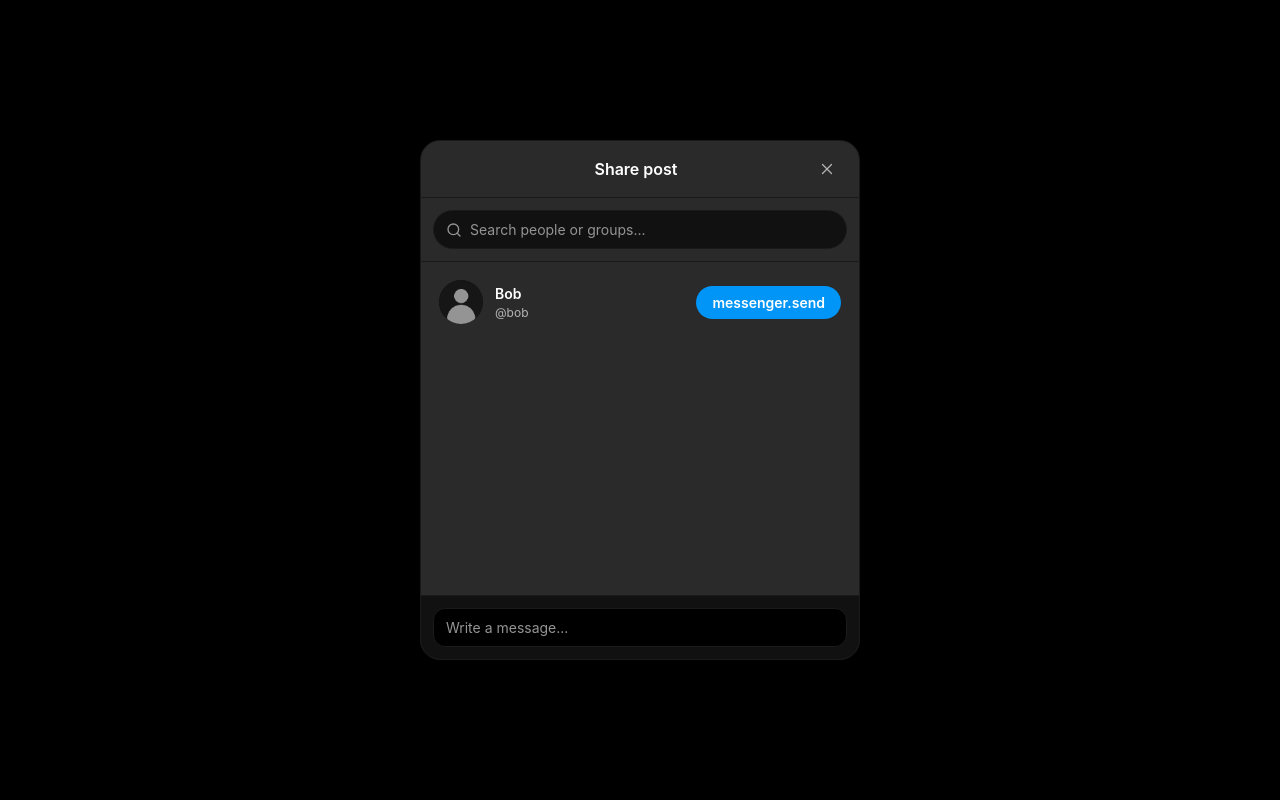
it: SharePostModal › reads state.login.userInfo, renders conversations, and sends post share message
The width and height of the screenshot is (1280, 800).
Expected: the text "Bob" is shown, [495,284,522,302]
Click the button "messenger.send": {"x": 769, "y": 302} [696,286,841,318]
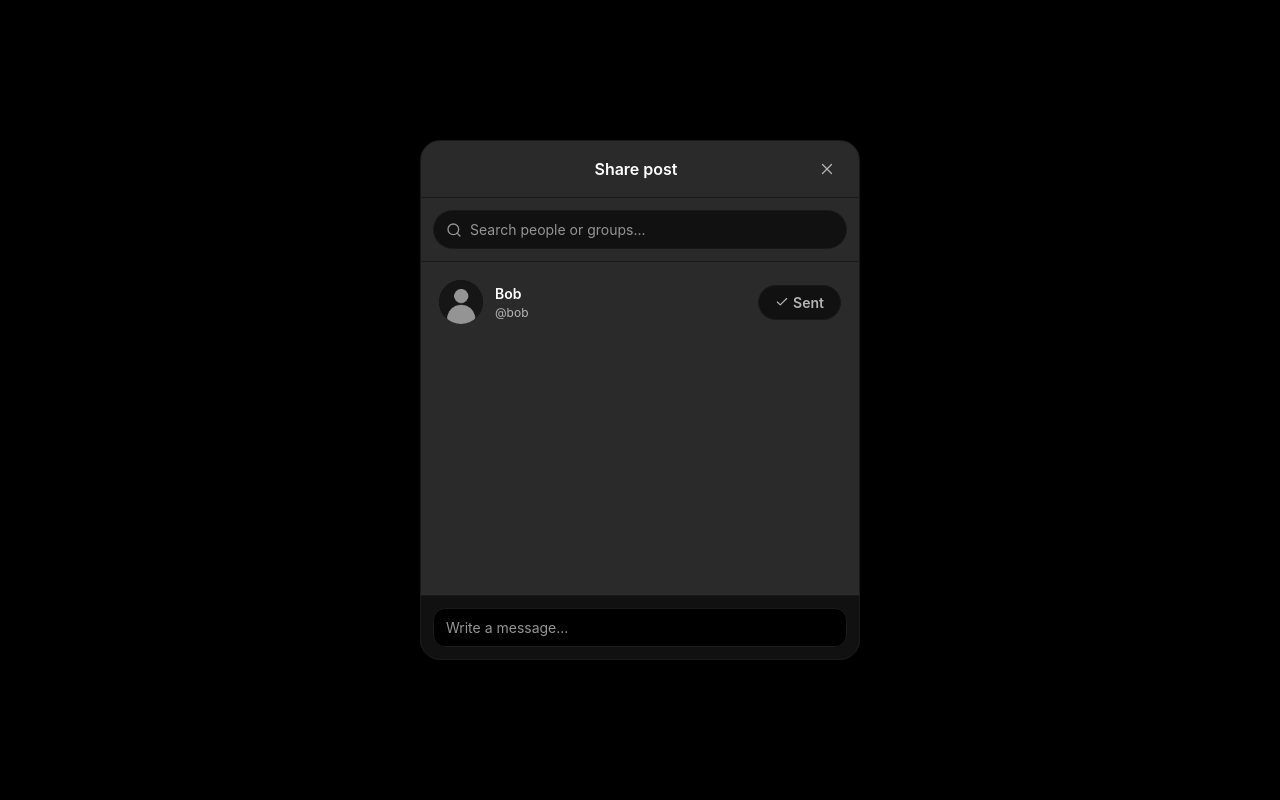
Expected: the text "Sent" is shown, [793,292,824,312]
